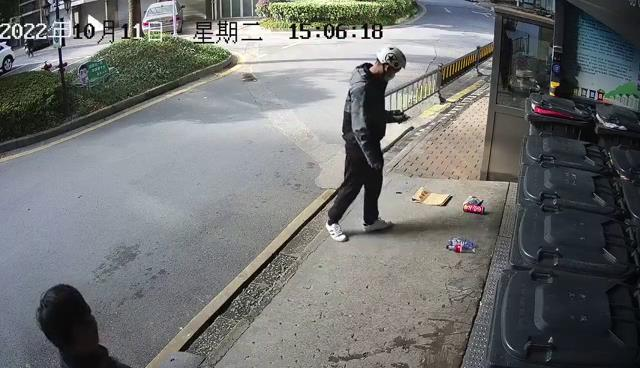lvzhipin: (445, 234, 480, 255), (461, 202, 486, 214)
person: (324, 43, 411, 243), (34, 281, 133, 368)
zhizhipin: (410, 185, 453, 208)
